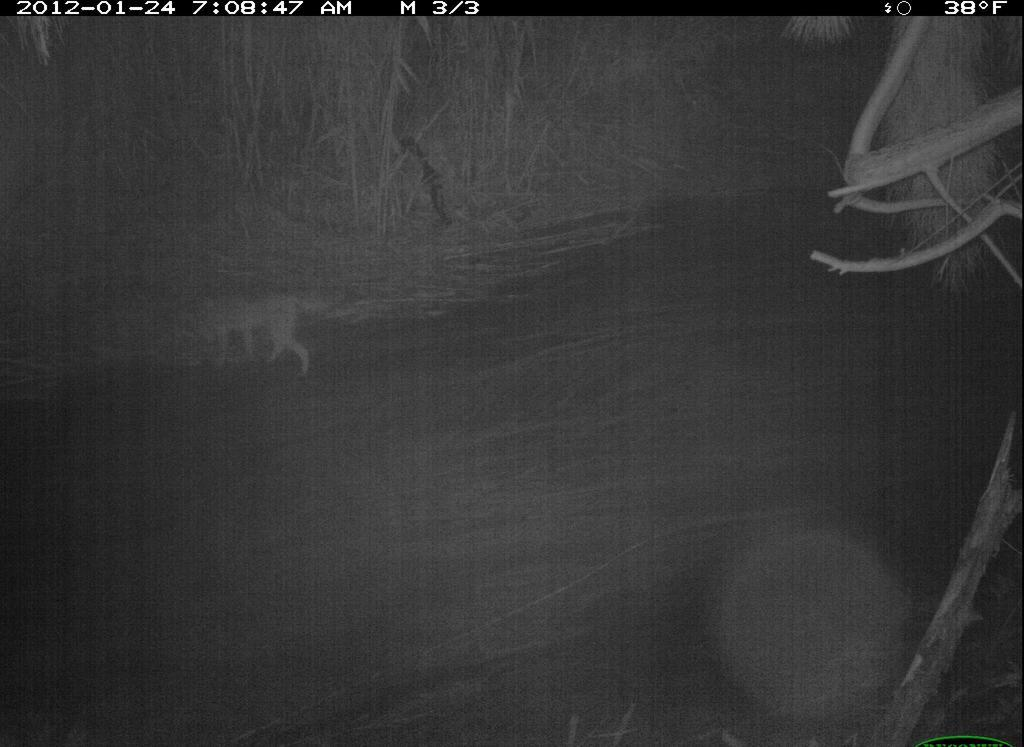coyote: (162, 257, 346, 400)
